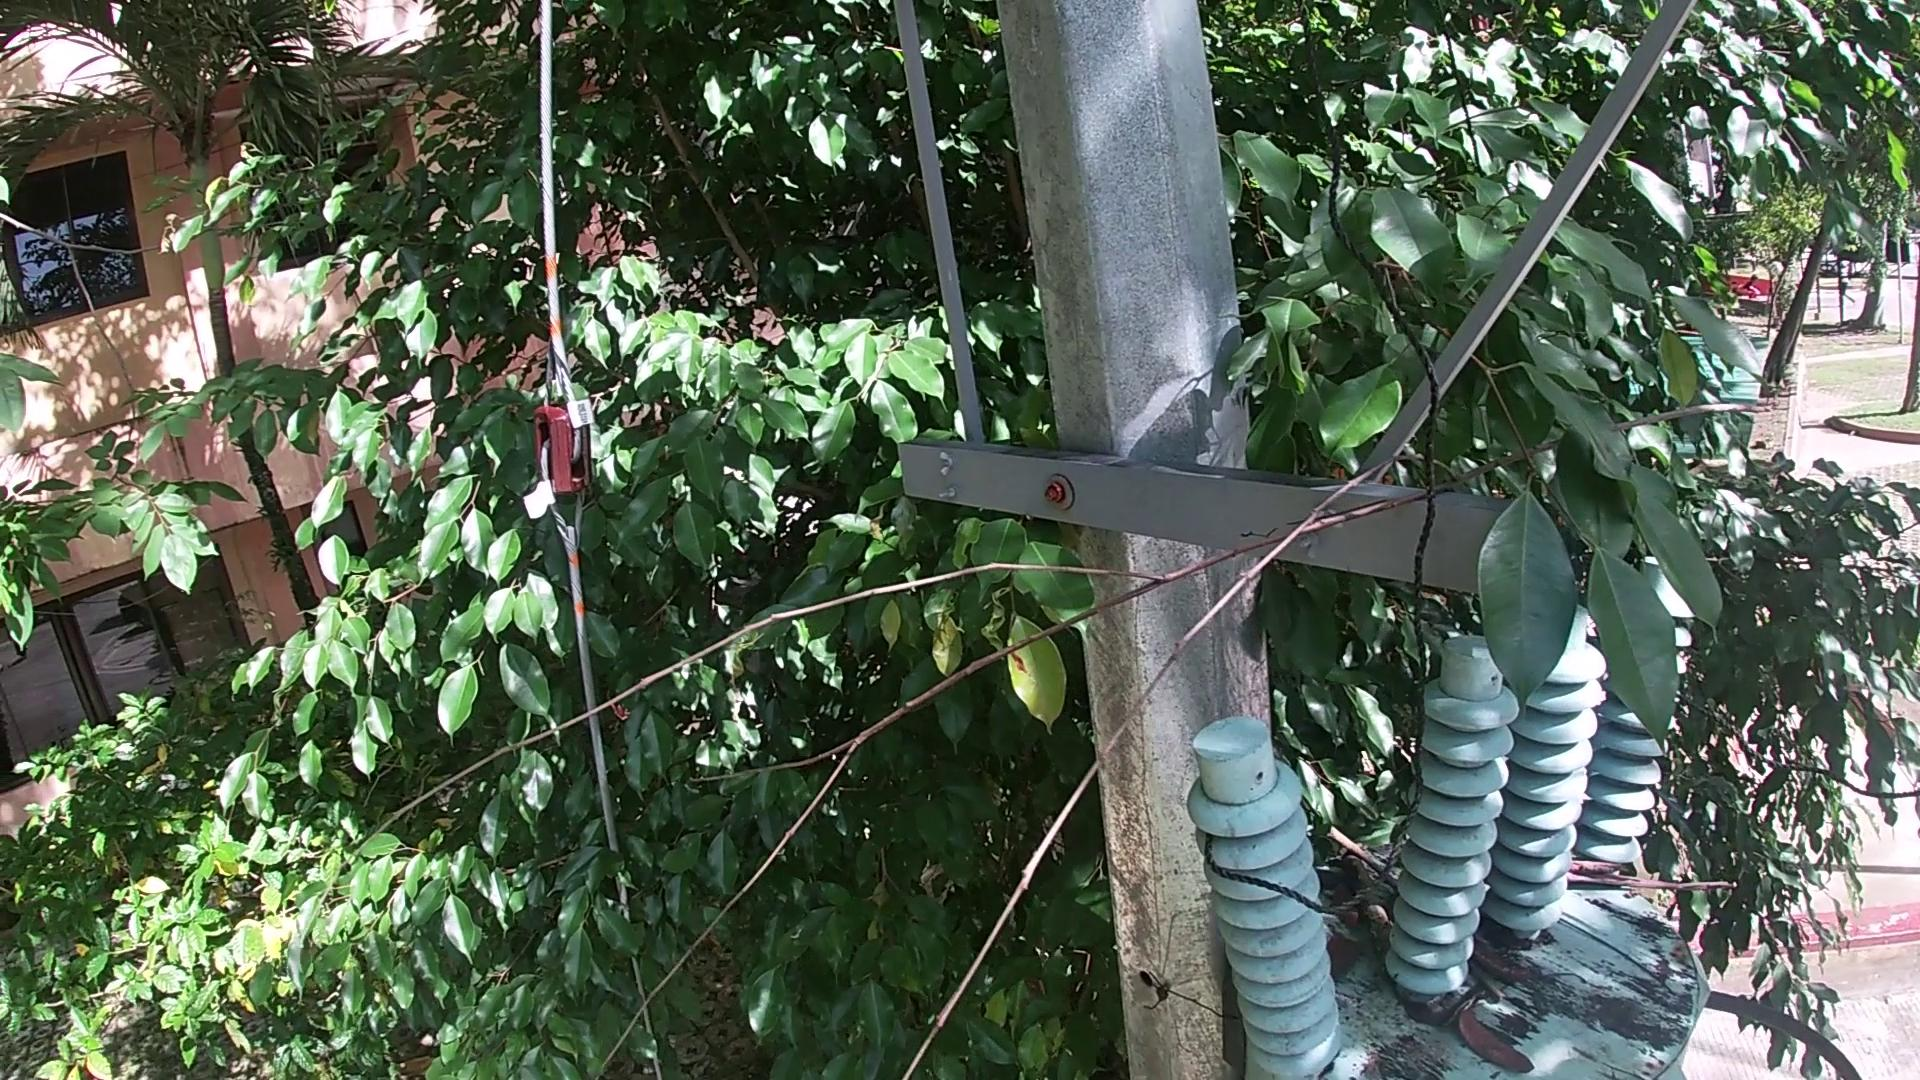leaf: (1389, 978, 1453, 1025)
mahogany fruit: (1462, 1001, 1542, 1077), (1476, 943, 1540, 982)
tree branch: (195, 394, 1778, 1056), (1565, 858, 1756, 899), (1338, 853, 1391, 955), (1323, 823, 1407, 874), (1534, 964, 1607, 994), (1472, 975, 1511, 1013)
